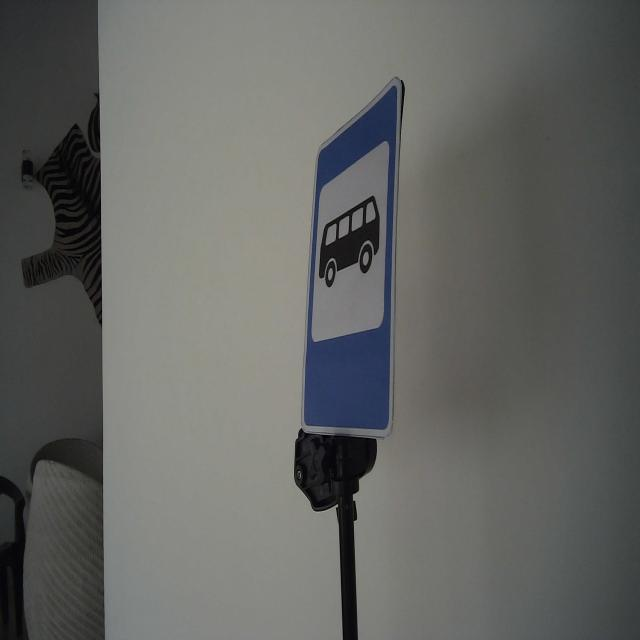bus_stop: (298, 72, 406, 440)
